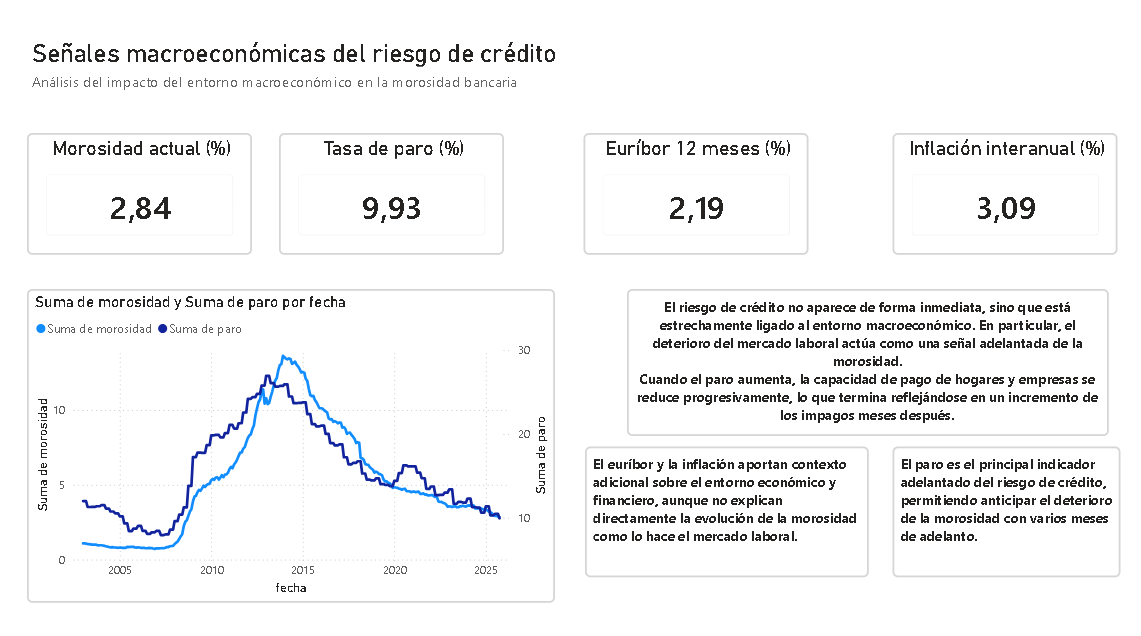

What the dashboard file says about the page in this screenshot:
{"tool":"powerbi","page":{"name":"macro","canvas":[1280,720],"ordinal":0},"visuals":[{"type":"lineChart","fields":{"Category":["dashboard_banca.fecha.Variación.Date Hierarchy.Year"],"Y":["Sum(dashboard_banca.morosidad)"],"Y2":["Sum(dashboard_banca.paro)"]},"box":[36.7,326.7,586.7,348.3],"z":0},{"type":"cardVisual","title":"Morosidad actual (%)","fields":{"Data":["dashboard_banca.Morosidad actual"]},"box":[36.7,153.3,250,135],"z":1000},{"type":"cardVisual","title":"Tasa de paro (%)","fields":{"Data":["dashboard_banca.Paro actual"]},"box":[316.7,153.3,250,135],"z":2000},{"type":"cardVisual","title":"Inflación interanual (%)","fields":{"Data":["dashboard_banca.Inflacion actual"]},"box":[998.3,153.3,250,135],"z":3000},{"type":"cardVisual","title":"Euríbor 12 meses (%)","fields":{"Data":["dashboard_banca.Euribor actual"]},"box":[655,153.3,250,135],"z":4000},{"type":"textbox","title":"Señales macroeconómicas del riesgo de crédito","box":[36.7,48.3,641.7,68.3],"z":5000},{"type":"textbox","box":[703.3,326.7,535,163.3],"z":6000},{"type":"textbox","box":[998.3,501.7,253.3,145],"z":7000},{"type":"textbox","box":[656.7,501.7,315,145],"z":8000}]}

Visuals, with their boxes in screenshot pixels (x1, y1, x2, y2), scaled from the page's 1280x720 canvas onto the 1141x636 screenshot:
lineChart - dashboard_banca.fecha.Variación.Date Hierarchy.Year x Sum(dashboard_banca.morosidad): {"left": 33, "top": 289, "right": 556, "bottom": 596}
"Morosidad actual (%)" cardVisual: {"left": 33, "top": 135, "right": 256, "bottom": 255}
"Tasa de paro (%)" cardVisual: {"left": 282, "top": 135, "right": 505, "bottom": 255}
"Inflación interanual (%)" cardVisual: {"left": 890, "top": 135, "right": 1113, "bottom": 255}
"Euríbor 12 meses (%)" cardVisual: {"left": 584, "top": 135, "right": 807, "bottom": 255}
"Señales macroeconómicas del riesgo de crédito" textbox: {"left": 33, "top": 43, "right": 605, "bottom": 103}
textbox: {"left": 627, "top": 289, "right": 1104, "bottom": 433}
textbox: {"left": 890, "top": 443, "right": 1116, "bottom": 571}
textbox: {"left": 585, "top": 443, "right": 866, "bottom": 571}
